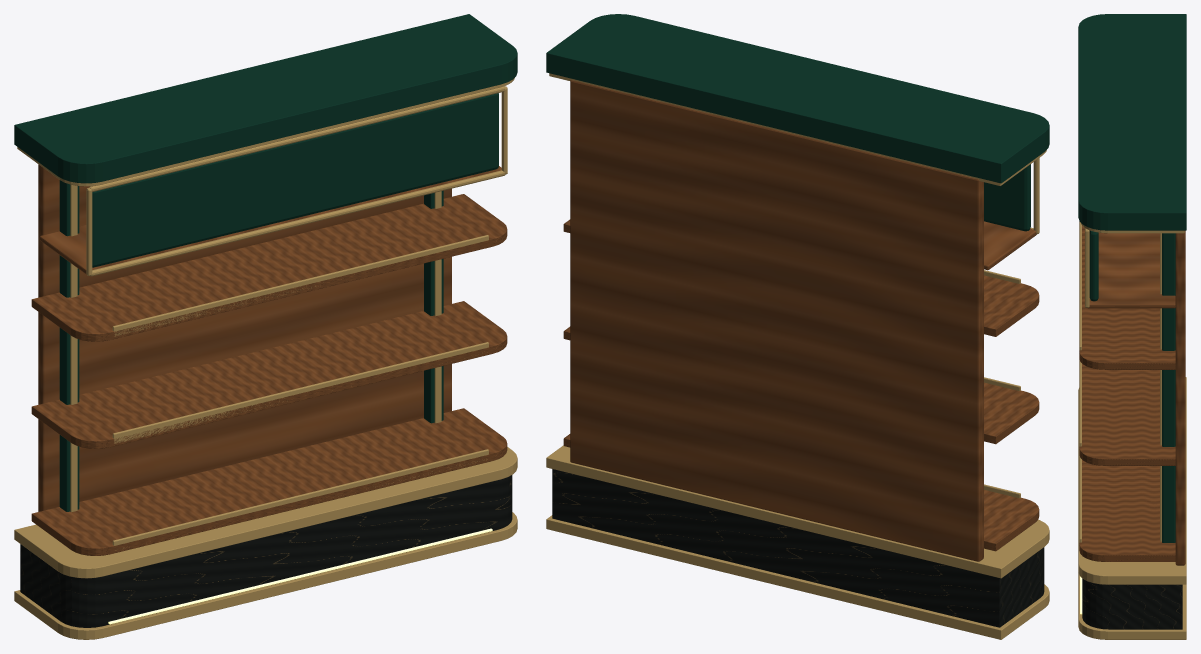
3 renders of one model, left to right at view 1: azimuth 30°, elevation 25°; view 2: azimuth 150°, elevation 25°; view 3: azimuth 270°, elevation 25°, orthographic. The views are drawn at different scales.
Visible parts, largest first — view 1: cabinet_back, cabinet_crown, brand_header_panel, shelf_1, shelf_3, shelf_2, cabinet_stone_base, trim_base_top, trim_base_plinth, cabinet_left_rear_post, price_rail_2, price_rail_3 (+9 smaller); view 2: cabinet_back, cabinet_crown, cabinet_stone_base, trim_base_top, trim_base_plinth, shelf_1, shelf_2, shelf_3, brand_header_panel, brand_header_light_canopy, trim_crown_lip; view 3: cabinet_crown, shelf_2, shelf_1, shelf_3, brand_header_light_canopy, cabinet_stone_base, cabinet_back, cabinet_right_rear_post, trim_base_top, trim_base_plinth, brand_header_panel, trim_right_post (+5 smaller).
Part boxes in pixels (x1,y1,x2,y2): cabinet_back: (38, 164, 451, 511); cabinet_crown: (14, 14, 517, 183); brand_header_panel: (92, 93, 498, 267); shelf_1: (31, 408, 507, 555); shelf_3: (31, 194, 507, 341); shelf_2: (31, 301, 507, 448); cabinet_stone_base: (20, 475, 512, 627); trim_base_top: (14, 447, 517, 578); trim_base_plinth: (14, 512, 517, 639); cabinet_left_rear_post: (59, 180, 79, 511); price_rail_2: (112, 342, 488, 443); price_rail_3: (112, 235, 488, 336); cabinet_back: (570, 80, 983, 561); cabinet_crown: (546, 14, 1049, 183); cabinet_stone_base: (552, 469, 1044, 627); trim_base_top: (546, 445, 1049, 578); trim_base_plinth: (546, 515, 1049, 639); shelf_1: (563, 434, 1039, 551); shelf_2: (563, 326, 1039, 444); shelf_3: (563, 219, 1039, 336); brand_header_panel: (984, 164, 1030, 231); brand_header_light_canopy: (984, 221, 1036, 270); trim_crown_lip: (549, 73, 1046, 185); cabinet_crown: (1078, 14, 1186, 230); shelf_2: (1079, 364, 1175, 465); shelf_1: (1079, 460, 1175, 561); shelf_3: (1079, 225, 1175, 369); brand_header_light_canopy: (1088, 232, 1175, 308); cabinet_stone_base: (1082, 578, 1182, 629); cabinet_back: (1175, 230, 1185, 565); cabinet_right_rear_post: (1162, 233, 1175, 542); trim_base_top: (1078, 377, 1186, 584); trim_base_plinth: (1078, 572, 1186, 639); brand_header_panel: (1089, 230, 1098, 301); trim_right_post: (1160, 233, 1161, 541).
Size of the model in its own units: 2.4 by 2.4 by 0.55.
Materials: 5 (2 with a texture image).
